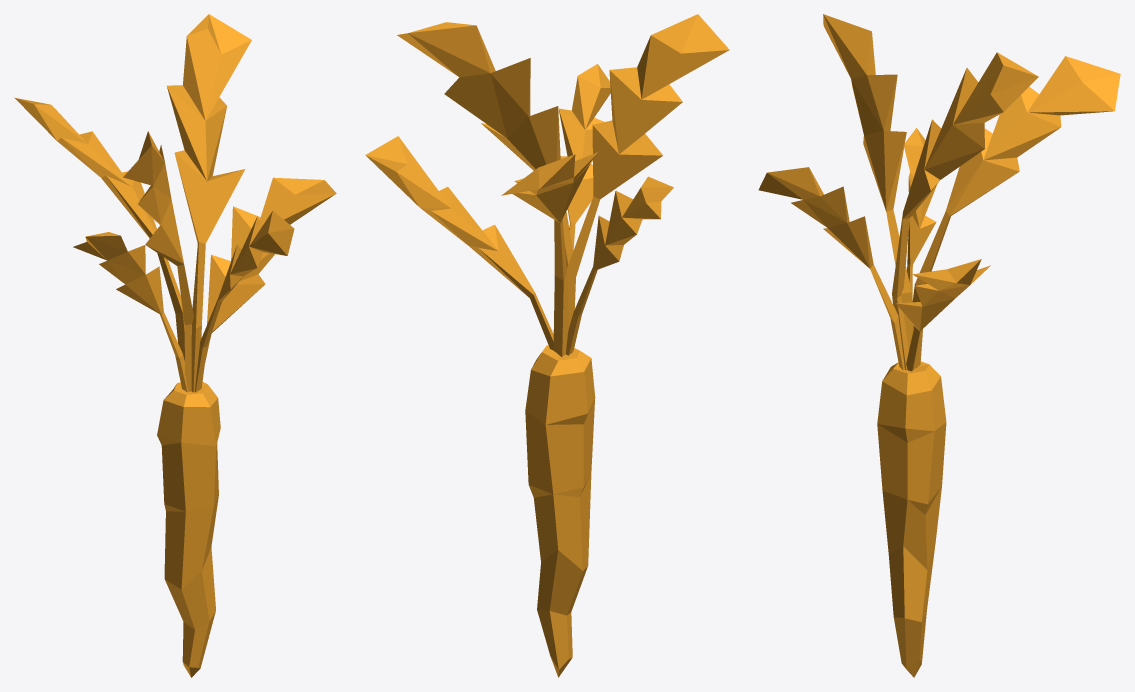
File: SM_Carrot_Plant_Ripe_Root_B.fbx
The picture shows the model from 3 angles, left to right: view 1: azimuth 30°, elevation 25°; view 2: azimuth 150°, elevation 25°; view 3: azimuth 270°, elevation 25°; orthographic projection. The views are drawn at different scales.
Visible parts, largest first — view 1: carrot-plant-ripe-root-b; view 2: carrot-plant-ripe-root-b; view 3: carrot-plant-ripe-root-b.
Boxes of the visible parts, x1,y1,x2,y2 form: carrot-plant-ripe-root-b: [14, 14, 336, 677]; carrot-plant-ripe-root-b: [365, 14, 729, 677]; carrot-plant-ripe-root-b: [758, 14, 1120, 677].
Bounding box in the file's own units: 0.3299 × 0.7217 × 0.3682.
